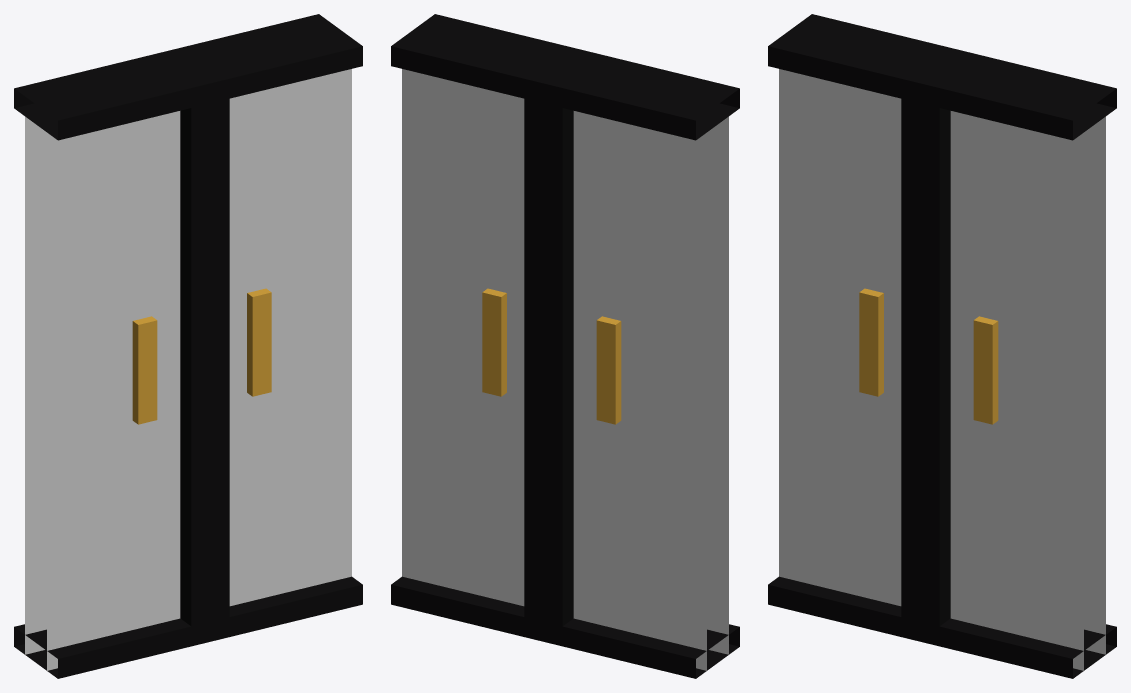
Rendered from frontExit2.dae.
The picture shows the model from 3 angles, left to right: view 1: azimuth 30°, elevation 25°; view 2: azimuth 150°, elevation 25°; view 3: azimuth 330°, elevation 25°; orthographic projection.
Visible parts, largest first — view 1: glass_MSH, middleFrame_MSH; view 2: glass_MSH, middleFrame_MSH; view 3: glass_MSH, middleFrame_MSH.
Boxes of the visible parts, x1,y1,x2,y2 form: glass_MSH: [25, 69, 351, 670]; middleFrame_MSH: [14, 14, 362, 678]; glass_MSH: [402, 69, 728, 670]; middleFrame_MSH: [391, 14, 739, 678]; glass_MSH: [779, 69, 1105, 670]; middleFrame_MSH: [768, 14, 1116, 678].
Size of the model in its own units: 1 by 1.75 by 0.25.
